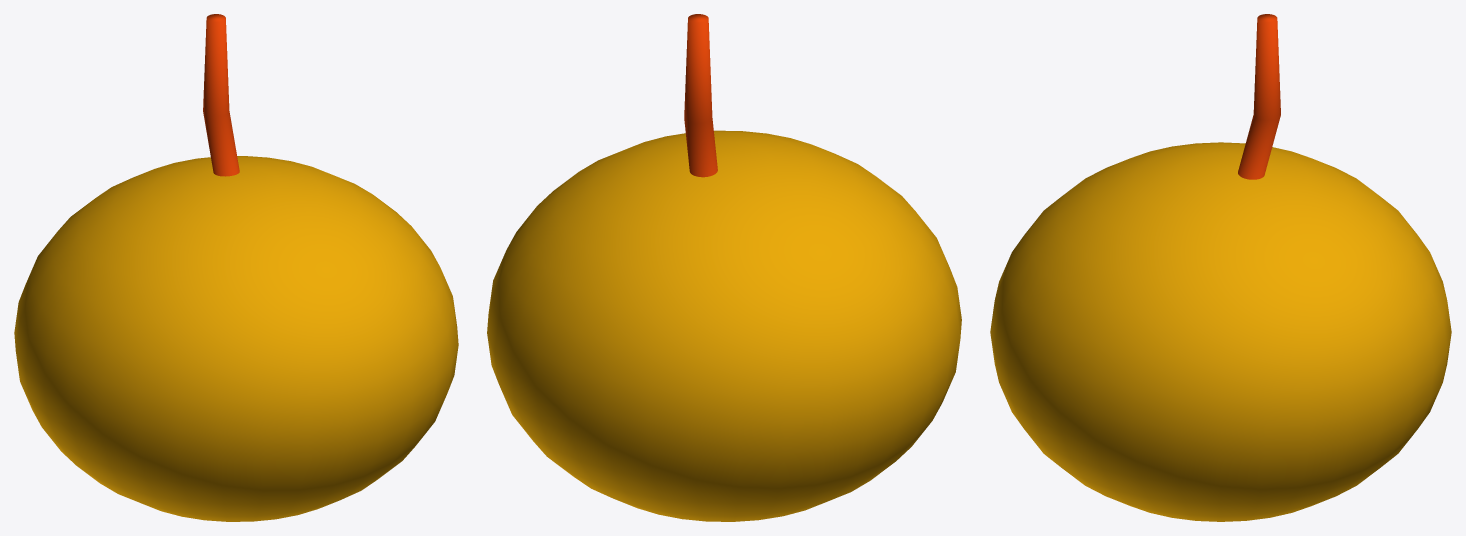
Rendered from naranja.fbx.
The picture shows the model from 3 angles, left to right: view 1: azimuth 30°, elevation 25°; view 2: azimuth 150°, elevation 25°; view 3: azimuth 270°, elevation 25°; orthographic projection. The views are drawn at different scales.
Parts seen in each view (by area): view 1: Cylinder; view 2: Cylinder; view 3: Cylinder.
Boxes of the visible parts, x1,y1,x2,y2 form: Cylinder: (14, 14, 458, 521); Cylinder: (487, 14, 961, 521); Cylinder: (990, 14, 1451, 521).
Size of the model in its own units: 2.55 by 2.55 by 2.92.
